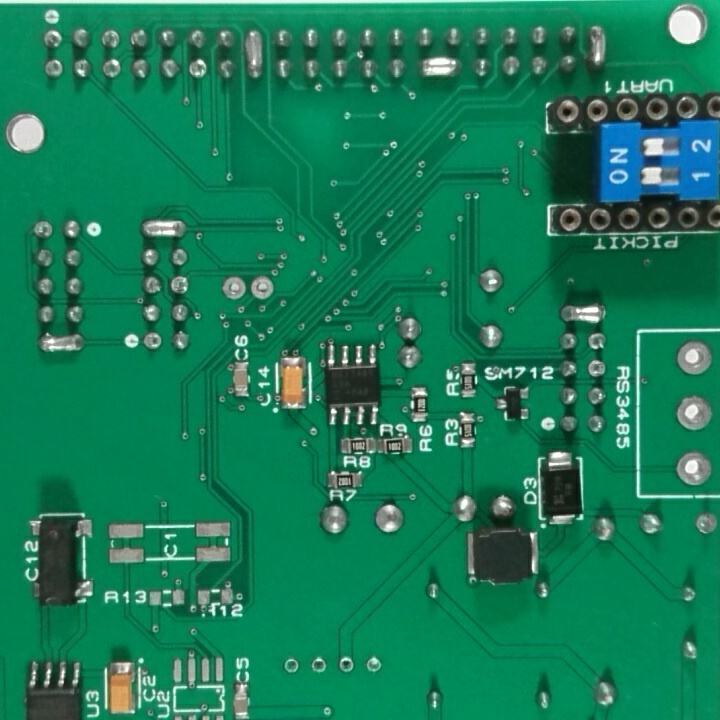F: (671, 392, 715, 436), (673, 337, 716, 379), (674, 449, 714, 490), (219, 274, 248, 303), (249, 275, 276, 306), (693, 509, 719, 538), (98, 26, 123, 52), (31, 219, 57, 243), (362, 652, 386, 677), (41, 27, 64, 52), (187, 57, 209, 82), (169, 272, 190, 298), (141, 329, 164, 352), (586, 358, 607, 383), (336, 653, 357, 675), (281, 654, 300, 677), (310, 654, 327, 678)
P: (559, 299, 610, 330), (416, 53, 466, 83), (241, 26, 267, 83), (586, 23, 611, 78), (39, 330, 87, 358), (136, 216, 190, 240)
